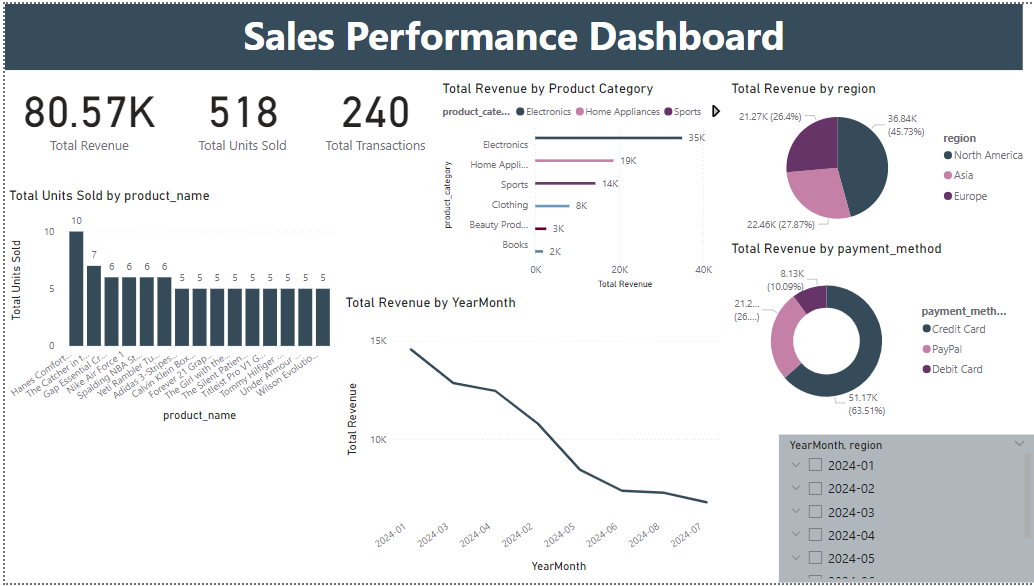

What the dashboard file says about the page in this screenshot:
{"tool":"powerbi","page":{"name":"Page 1","canvas":[1280,720],"ordinal":0},"visuals":[{"type":"clusteredBarChart","title":"Total Revenue by Product Category","fields":{"Category":["salesdb sales_data.product_category"],"Y":["salesdb sales_data.Total Revenue"],"Series":["salesdb sales_data.product_category"]},"box":[539,95.7,358.8,264.6],"z":0},{"type":"textbox","box":[0,0,1266.2,82.4],"z":1000},{"type":"clusteredColumnChart","fields":{"Y":["salesdb sales_data.Total Units Sold"],"Category":["salesdb sales_data.product_name"]},"box":[0,228,417.9,295.5],"z":2000},{"type":"lineChart","fields":{"Y":["salesdb sales_data.Total Revenue"],"Category":["salesdb sales_data.YearMonth"]},"box":[417.9,360.3,479.9,350.4],"z":2001},{"type":"pieChart","fields":{"Category":["salesdb sales_data.region"],"Y":["salesdb sales_data.Total Revenue"]},"box":[897.8,95.7,382.8,198.4],"z":2002},{"type":"donutChart","fields":{"Y":["salesdb sales_data.Total Revenue"],"Category":["salesdb sales_data.payment_method"]},"box":[897.8,294.1,358.8,229.4],"z":2003},{"type":"slicer","fields":{"Values":["salesdb sales_data.YearMonth","salesdb sales_data.region"]},"box":[962.6,536.2,318,184.3],"z":2004},{"type":"card","fields":{"Values":["salesdb sales_data.Total Revenue"]},"box":[0,83,209.7,108.4],"z":2005},{"type":"card","fields":{"Values":["salesdb sales_data.Total Units Sold"]},"box":[209.7,83,170.3,108.4],"z":2006},{"type":"card","fields":{"Values":["CountNonNull(salesdb sales_data.transaction_id)"]},"box":[392.6,83,135.1,108.4],"z":2007}]}

Visuals, with their boxes in screenshot pixels (x1, y1, x2, y2), scaled from the page's 1280x720 canvas onto the 1034x586 screenshot:
"Total Revenue by Product Category" clusteredBarChart: [x1=435, y1=78, x2=725, y2=293]
textbox: [x1=0, y1=0, x2=1023, y2=67]
clusteredColumnChart - salesdb sales_data.Total Units Sold x salesdb sales_data.product_name: [x1=0, y1=186, x2=338, y2=426]
lineChart - salesdb sales_data.Total Revenue x salesdb sales_data.YearMonth: [x1=338, y1=293, x2=725, y2=578]
pieChart - salesdb sales_data.region x salesdb sales_data.Total Revenue: [x1=725, y1=78, x2=1033, y2=239]
donutChart - salesdb sales_data.Total Revenue x salesdb sales_data.payment_method: [x1=725, y1=239, x2=1015, y2=426]
slicer - salesdb sales_data.YearMonth x salesdb sales_data.region: [x1=778, y1=436, x2=1033, y2=585]
card - salesdb sales_data.Total Revenue: [x1=0, y1=68, x2=169, y2=156]
card - salesdb sales_data.Total Units Sold: [x1=169, y1=68, x2=307, y2=156]
card - CountNonNull(salesdb sales_data.transaction_id): [x1=317, y1=68, x2=426, y2=156]
